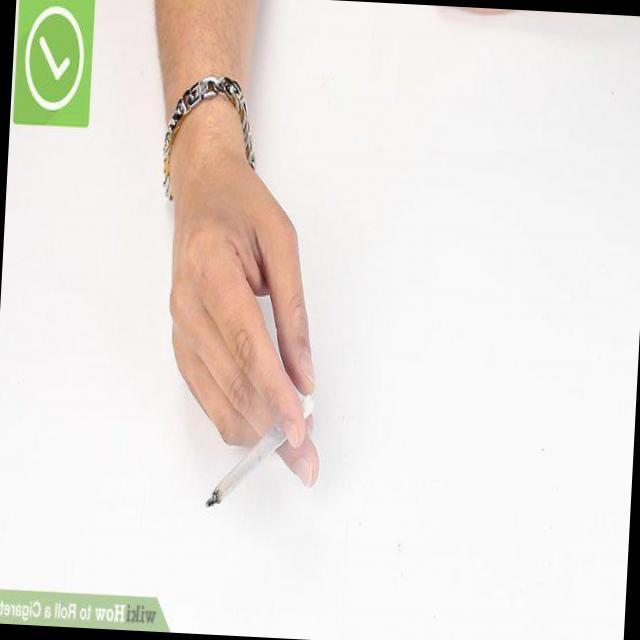cigarette: (200, 419, 284, 523)
